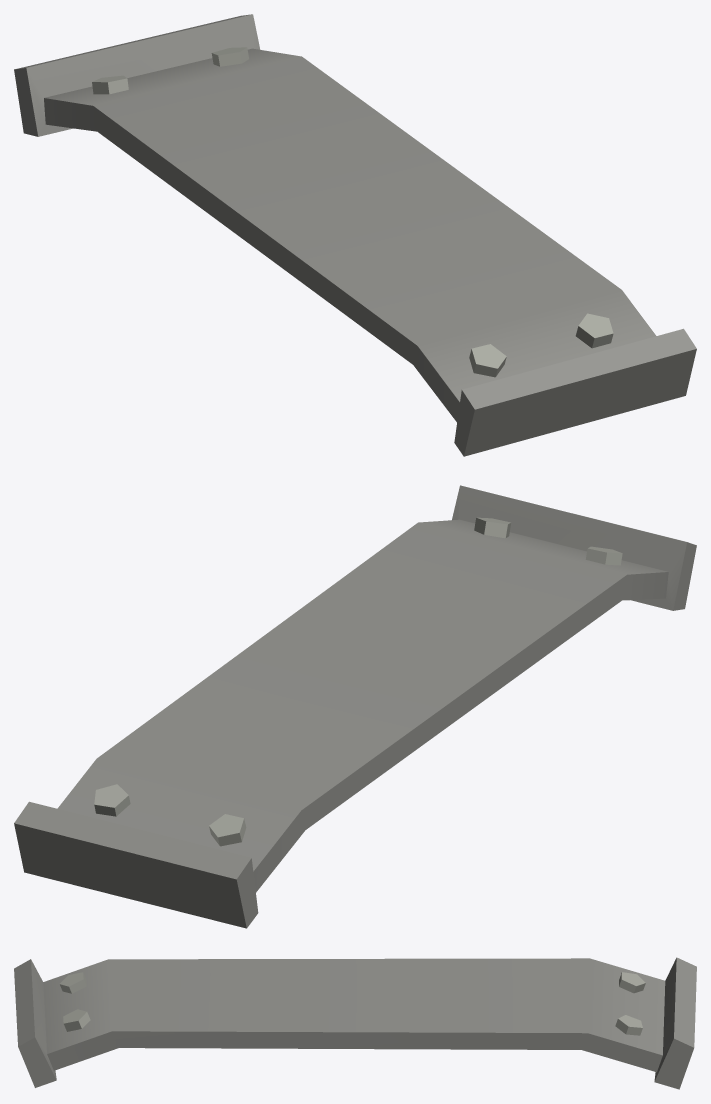
The model's file is apoc_SM_Veh_Attach_Plating_02.gltf.
3 renders of one model, top to bottom at view 1: azimuth 30°, elevation 25°; view 2: azimuth 150°, elevation 25°; view 3: azimuth 270°, elevation 25°, orthographic. The views are drawn at different scales.
Parts seen in each view (by area): view 1: SM_Veh_Attach_Plating_02; view 2: SM_Veh_Attach_Plating_02; view 3: SM_Veh_Attach_Plating_02.
Part boxes in pixels (x1=…): SM_Veh_Attach_Plating_02: x1=14, y1=14, x2=696, y2=456; SM_Veh_Attach_Plating_02: x1=14, y1=485, x2=696, y2=928; SM_Veh_Attach_Plating_02: x1=14, y1=957, x2=696, y2=1089.
Size of the model in its own units: 0.4978 by 0.1597 by 1.75.
1 material, 1 textured.
